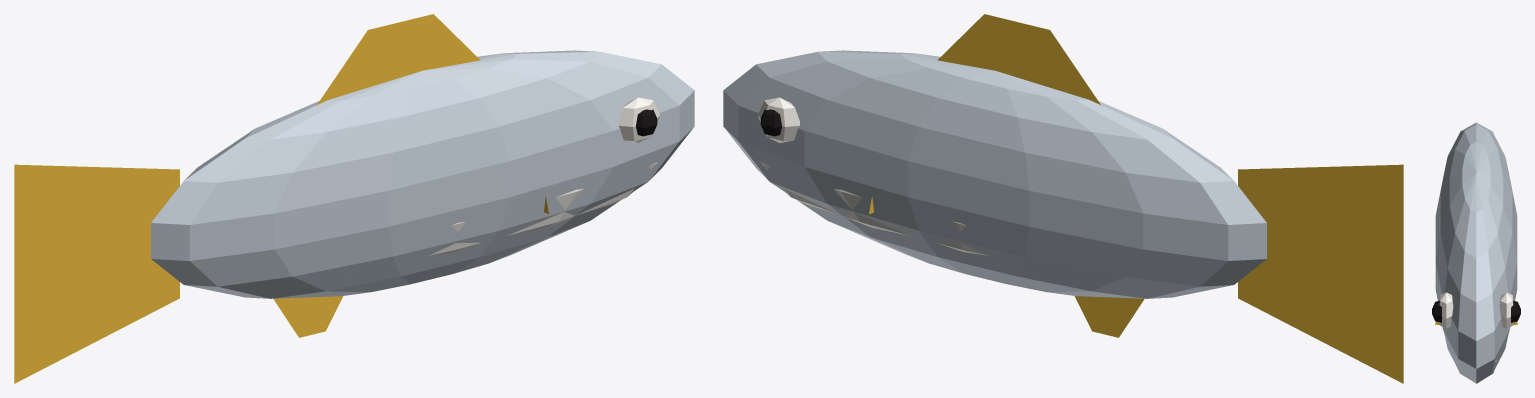
The model's file is fish_lambari.obj.
3 renders of one model, left to right at view 1: azimuth 30°, elevation 25°; view 2: azimuth 150°, elevation 25°; view 3: azimuth 270°, elevation 25°, orthographic. The views are drawn at different scales.
Visible parts, largest first — view 1: fish; view 2: fish; view 3: fish.
Part boxes in pixels (left/top/right/bottom): fish: left=14, top=14, right=694, bottom=383; fish: left=723, top=14, right=1403, bottom=383; fish: left=1432, top=122, right=1520, bottom=383.
Bounding box in the file's own units: 0.6162 × 0.252 × 0.0902.
